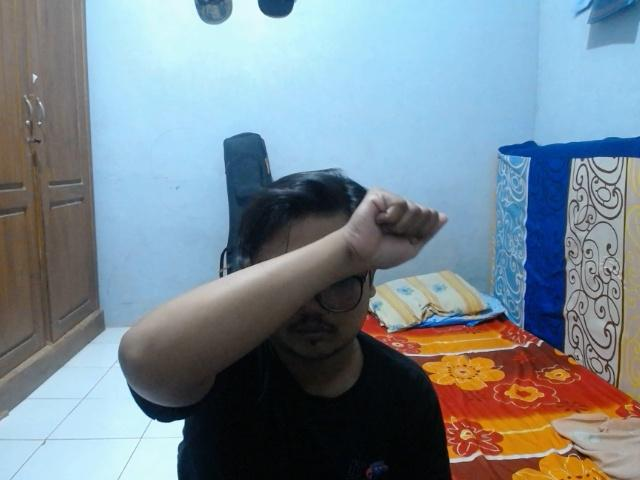Grab: (341, 180, 450, 272)
